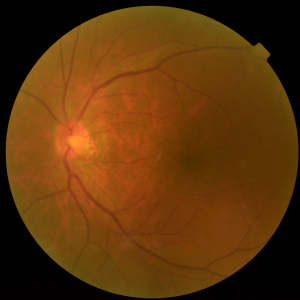healthy_eye: (29, 82, 219, 181)
